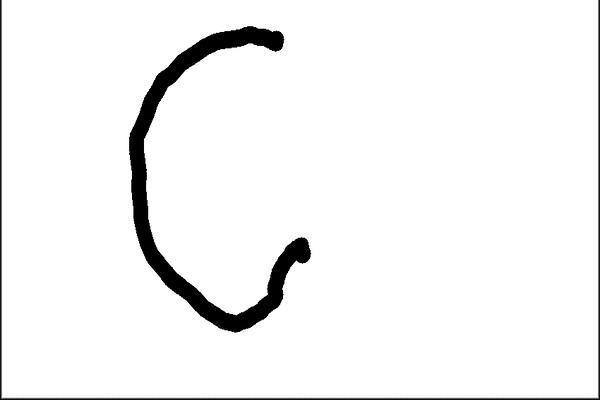C: (115, 22, 317, 332)
